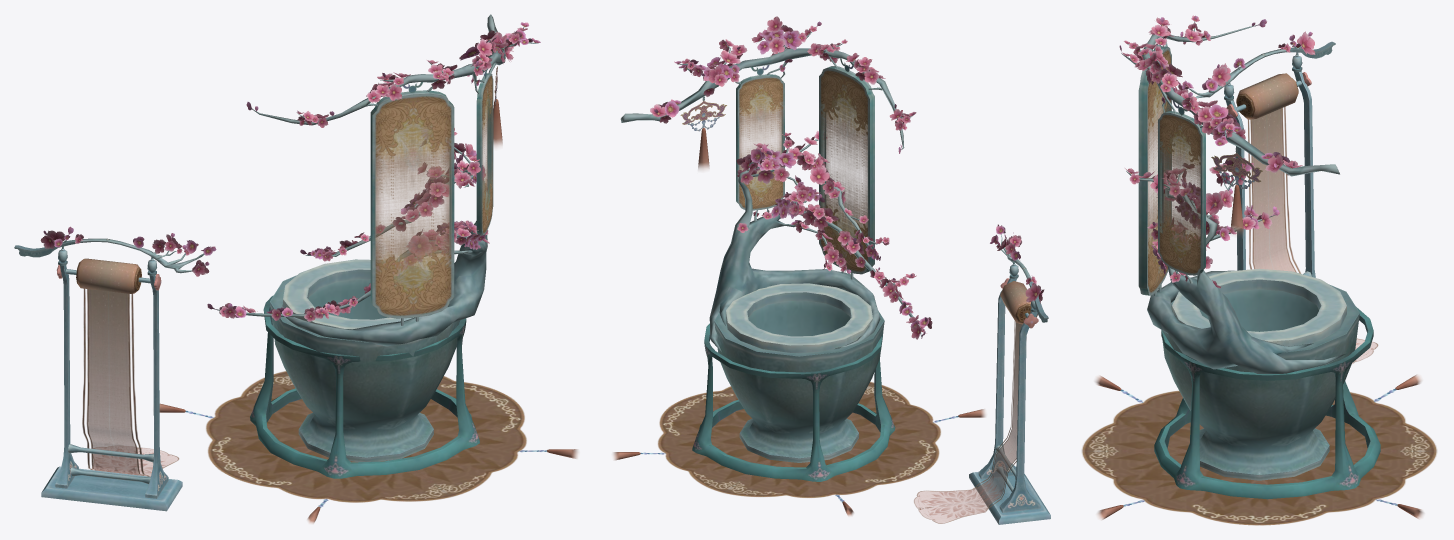
Rendered from furniture-20840.glb.
3 views of the same model, side by side, from view 1: azimuth 30°, elevation 25°; view 2: azimuth 150°, elevation 25°; view 3: azimuth 270°, elevation 25° (orthographic). The views are drawn at different scales.
Bounding box in the file's own units: 1.93 × 1.63 × 1.2.
Materials: 3 (3 with a texture image).
